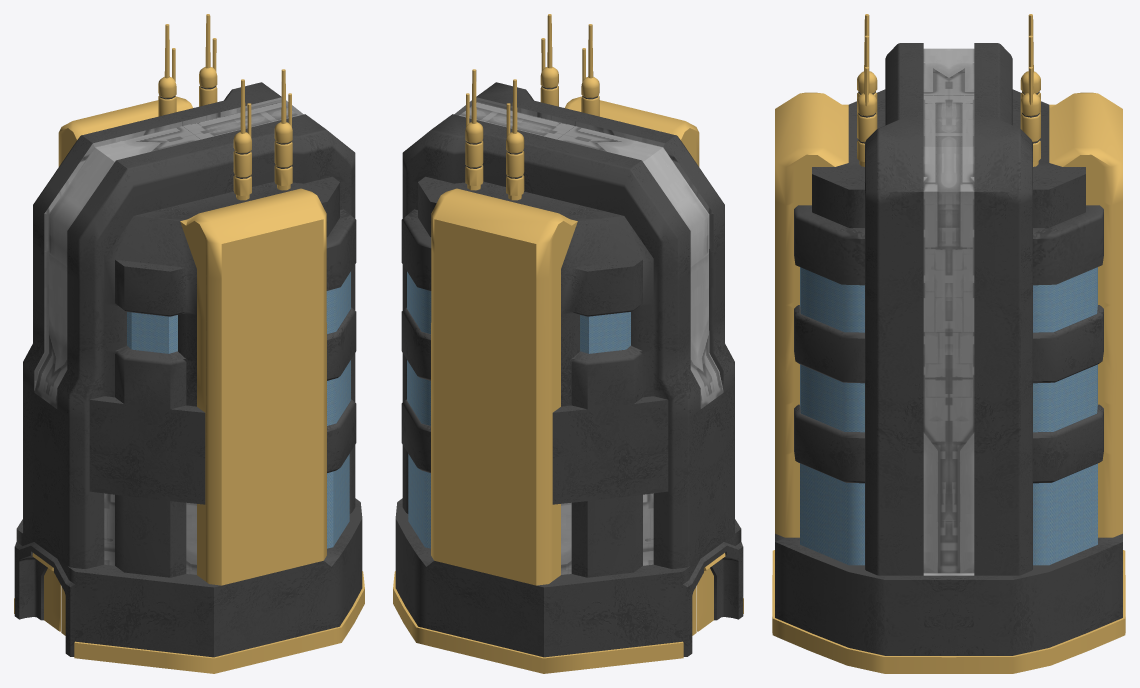
Rendered from NB_Extra_Building_2.fbx.
The picture shows the model from 3 angles, left to right: view 1: azimuth 30°, elevation 25°; view 2: azimuth 150°, elevation 25°; view 3: azimuth 270°, elevation 25°; orthographic projection. The views are drawn at different scales.
Parts seen in each view (by area): view 1: NB_Extra_Building_2; view 2: NB_Extra_Building_2; view 3: NB_Extra_Building_2.
Part boxes in pixels (x1=…): NB_Extra_Building_2: x1=14, y1=14, x2=364, y2=673; NB_Extra_Building_2: x1=393, y1=14, x2=743, y2=673; NB_Extra_Building_2: x1=772, y1=14, x2=1125, y2=673.
Bounding box in the file's own units: 358 × 638 × 345.
